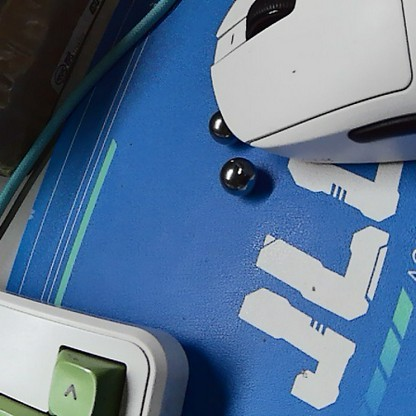ironball: (208, 155, 260, 194), (206, 111, 238, 139)
